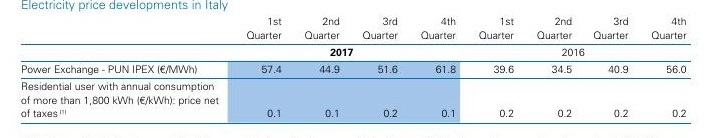table: (0, 0, 710, 138)
